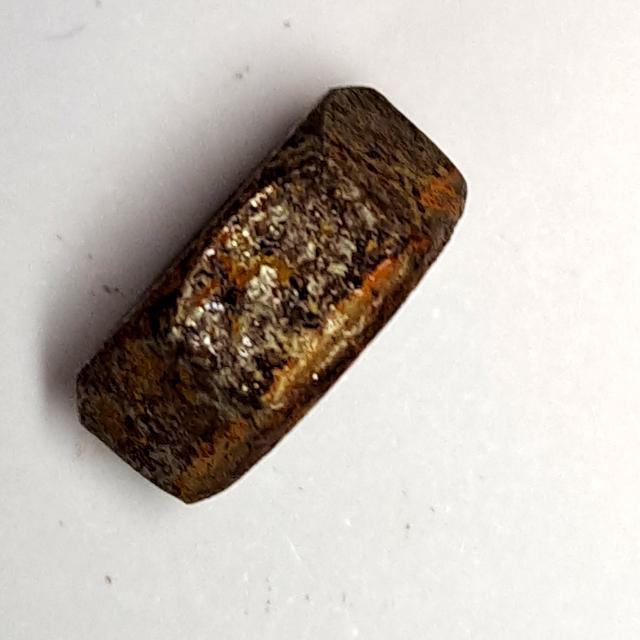Side_Rust: (66, 70, 475, 516)
